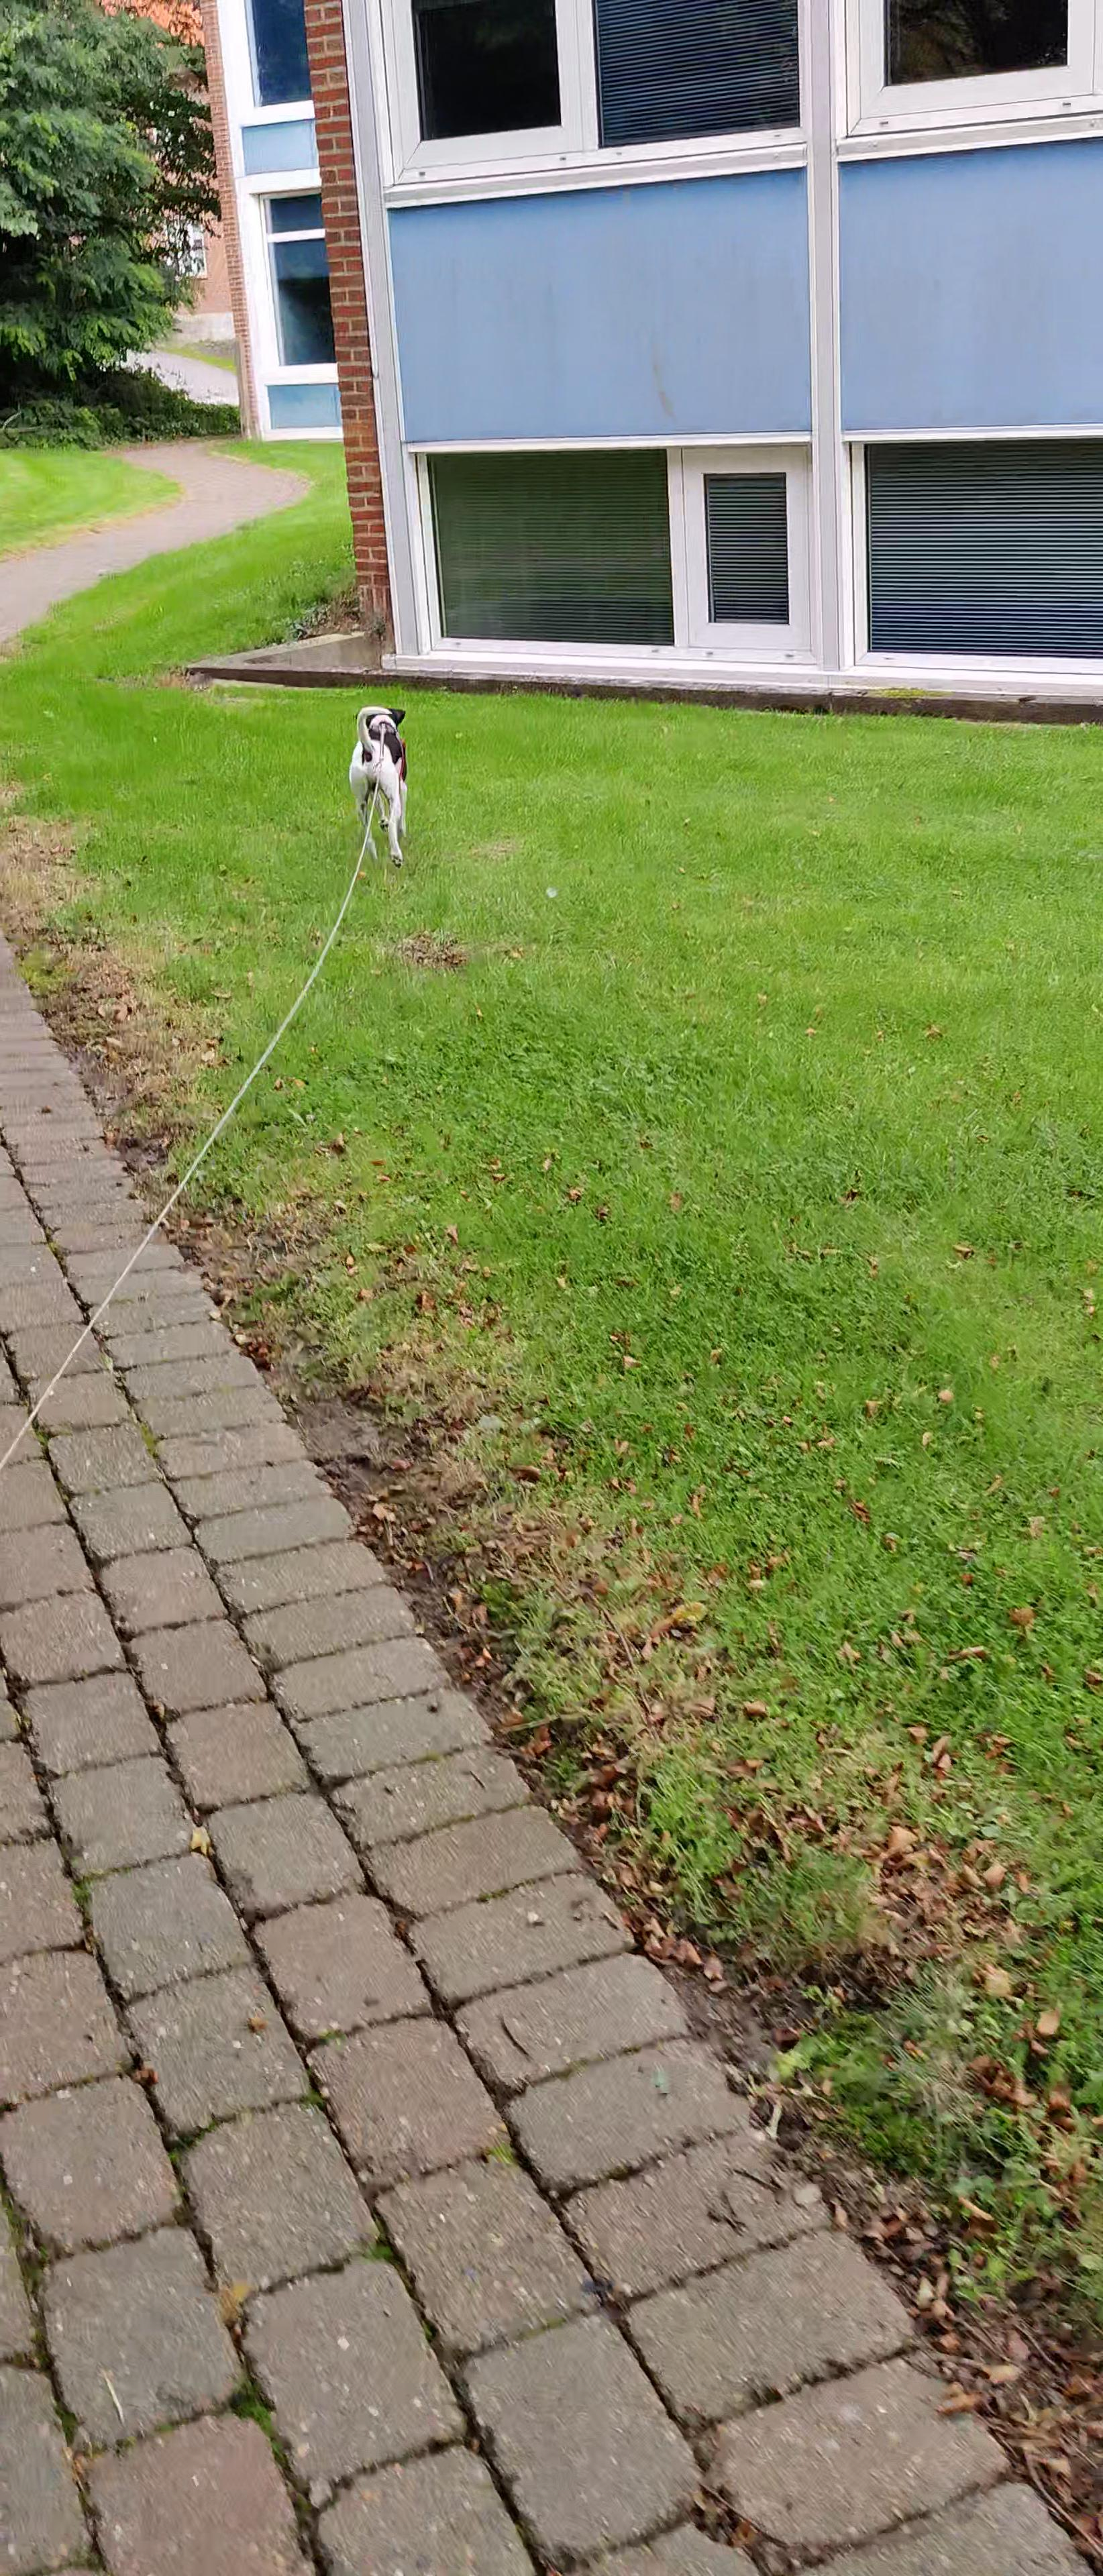Dog: (335, 695, 431, 885)
